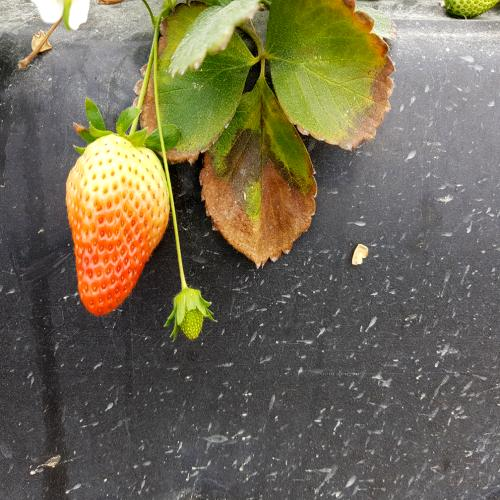partially-ripe: (61, 125, 174, 343)
